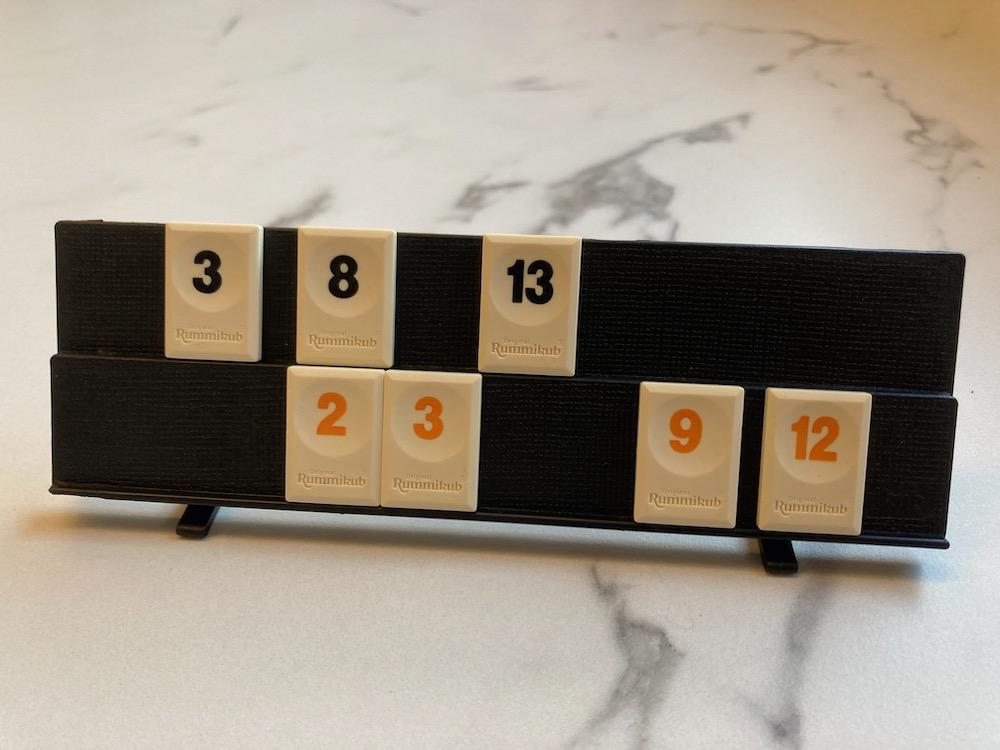black_13: (479, 234, 582, 377)
black_3: (166, 223, 262, 361)
black_8: (297, 227, 396, 367)
orange_12: (756, 389, 871, 535)
orange_2: (285, 367, 385, 506)
orange_3: (381, 371, 482, 512)
orange_9: (633, 383, 744, 527)
